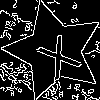X: (29, 25, 83, 82)
